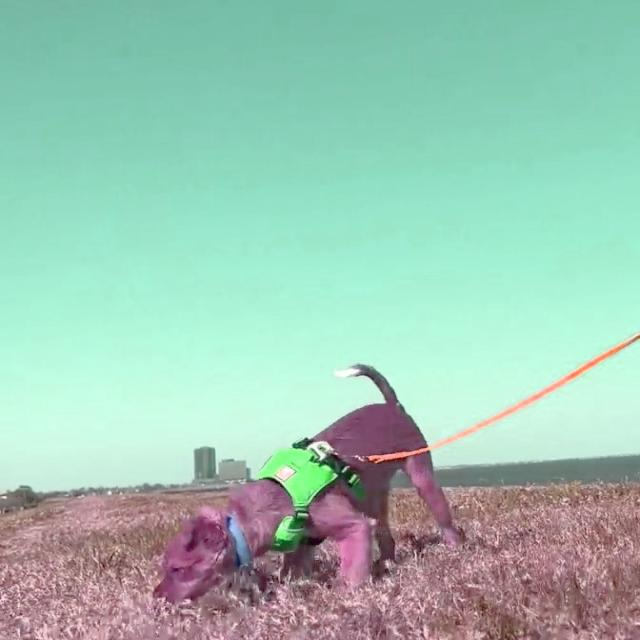Dog: (152, 364, 462, 602)
